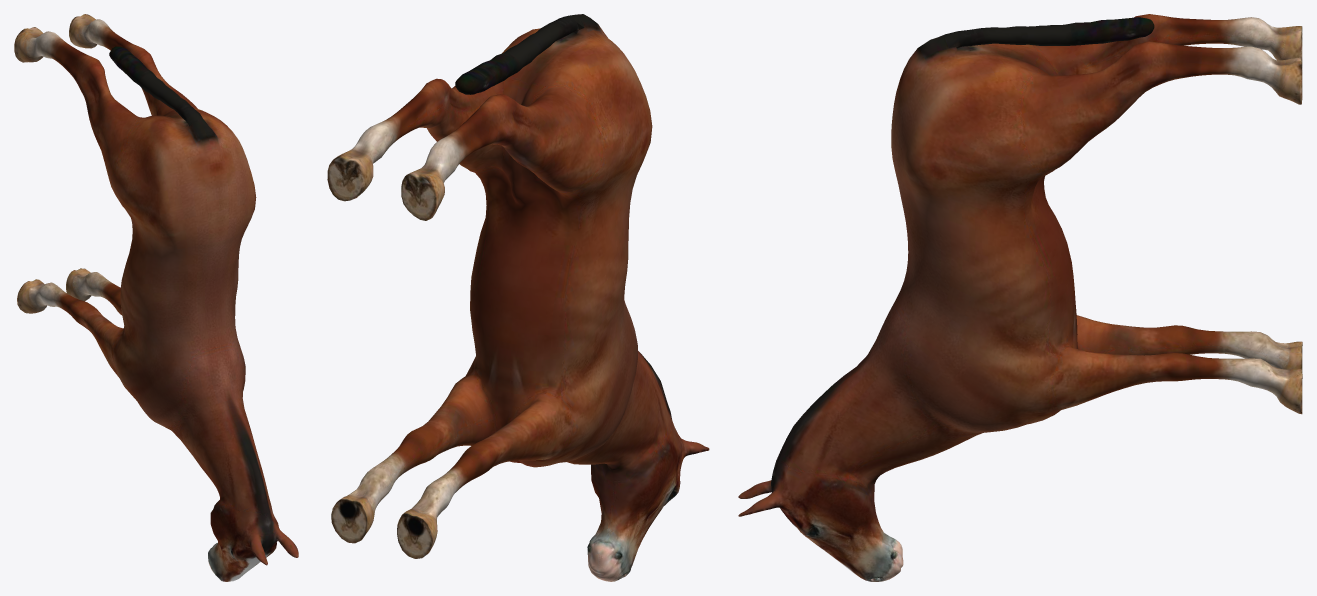
File: horse.glb
The picture shows the model from 3 angles, left to right: view 1: azimuth 30°, elevation 25°; view 2: azimuth 150°, elevation 25°; view 3: azimuth 270°, elevation 25°; orthographic projection. The views are drawn at different scales.
Visible parts, largest first — view 1: Horse; view 2: Horse; view 3: Horse.
Boxes of the visible parts, x1,y1,x2,y2 form: Horse: (14, 14, 298, 581); Horse: (327, 14, 709, 581); Horse: (738, 14, 1302, 581).
Size of the model in its own units: 0.5298 by 2.1 by 1.91.
1 material, 1 textured.
